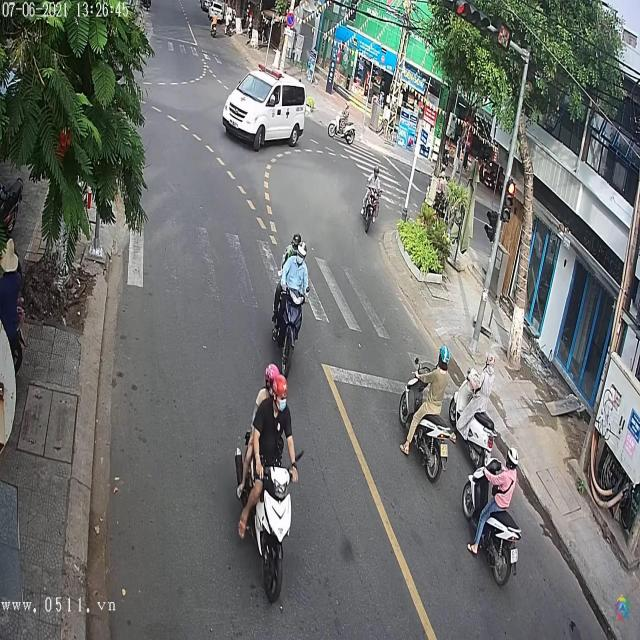car: (221, 72, 307, 151)
motorcycle: (234, 417, 300, 606), (460, 449, 519, 590), (451, 366, 499, 476), (272, 250, 309, 384), (412, 413, 453, 481), (358, 168, 380, 236), (329, 104, 357, 146)
